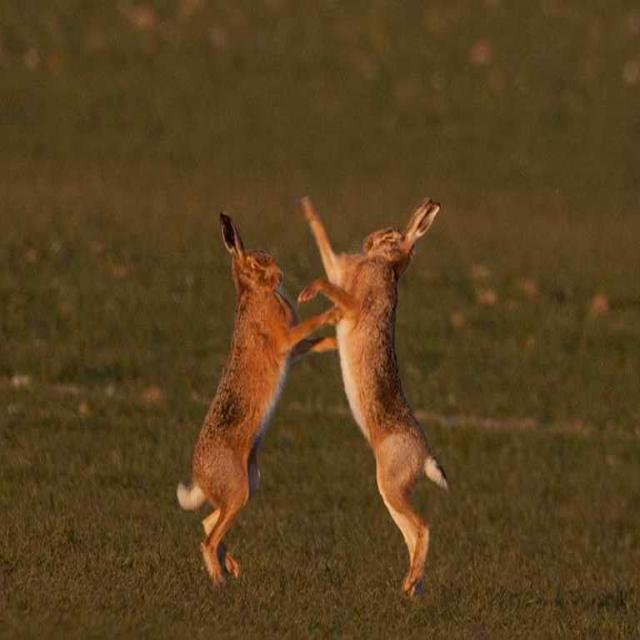hare: (177, 213, 338, 584), (298, 197, 447, 595)
